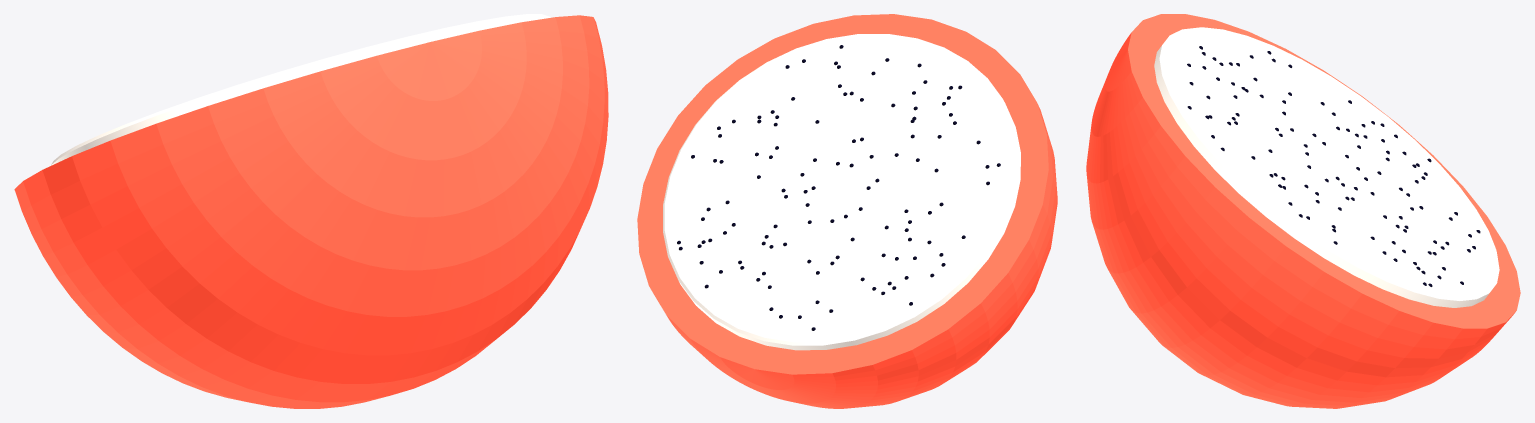
The model's file is DRAGON_FROOT.dae.
3 views of the same model, side by side, from view 1: azimuth 30°, elevation 25°; view 2: azimuth 150°, elevation 25°; view 3: azimuth 270°, elevation 25° (orthographic). The views are drawn at different scales.
Visible parts, largest first — view 1: Capsule, Disque; view 2: Disque, Capsule, Cloneur.2; view 3: Capsule, Disque, Cloneur.2.
Part boxes in pixels (x1,y1,x2,y2): Capsule: (14, 15, 608, 408); Disque: (51, 14, 550, 165); Disque: (663, 34, 1020, 350); Capsule: (637, 14, 1057, 408); Cloneur.2: (677, 45, 1000, 330); Capsule: (1086, 14, 1520, 408); Disque: (1154, 27, 1499, 307); Cloneur.2: (1187, 46, 1480, 286).
Bounding box in the file's own units: 60 × 46.95 × 54.75.
